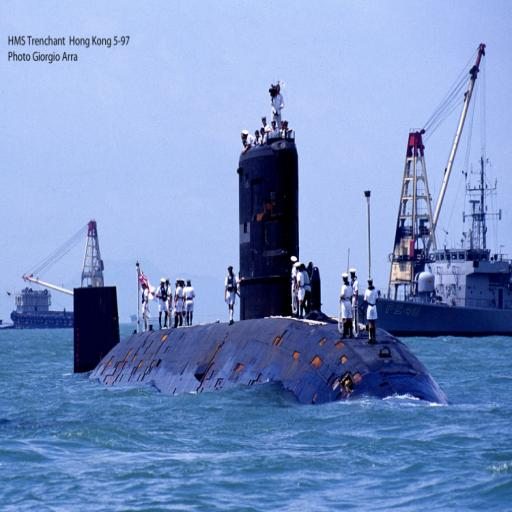submarine: (75, 142, 460, 403)
